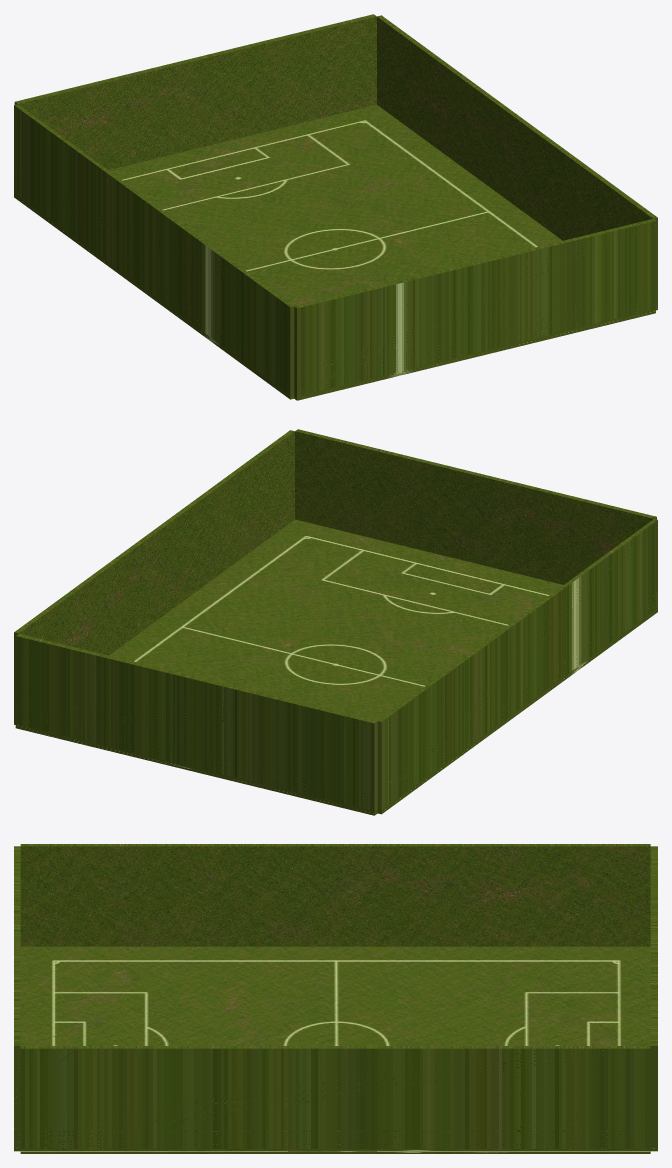
Rendered from soccer_field.glb.
3 renders of one model, top to bottom at view 1: azimuth 30°, elevation 25°; view 2: azimuth 150°, elevation 25°; view 3: azimuth 270°, elevation 25°, orthographic. The views are drawn at different scales.
Visible parts, largest first — view 1: field-col; view 2: field-col; view 3: field-col.
Part boxes in pixels (x1,y1,x2,y2): field-col: [14, 14, 657, 400]; field-col: [14, 429, 657, 815]; field-col: [14, 844, 657, 1153].
Bounding box in the file's own units: 423 × 101 × 563.
Materials: 1 (1 with a texture image).
